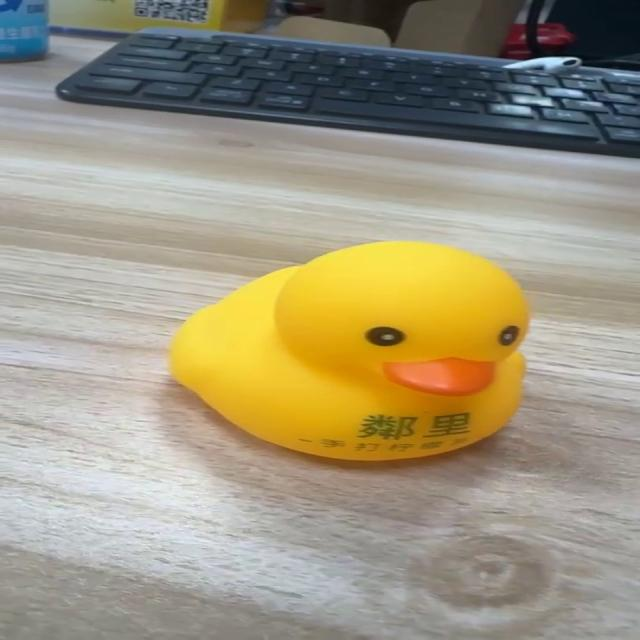yellow_duck: (165, 238, 532, 461)
